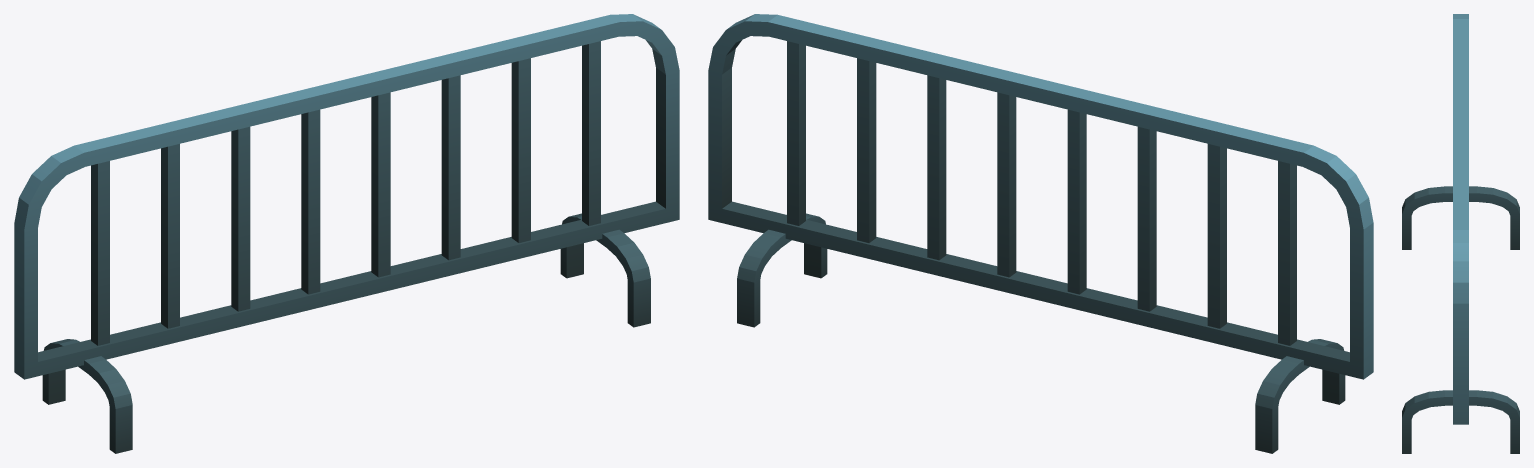
Rendered from lpb_fence_10.fbx.
3 renders of one model, left to right at view 1: azimuth 30°, elevation 25°; view 2: azimuth 150°, elevation 25°; view 3: azimuth 270°, elevation 25°, orthographic. The views are drawn at different scales.
Visible parts, largest first — view 1: fence10; view 2: fence10; view 3: fence10.
Part boxes in pixels (x1,y1,x2,y2): fence10: (14, 14, 679, 453); fence10: (708, 14, 1373, 453); fence10: (1402, 14, 1519, 453).
Bounding box in the file's own units: 493 × 200 × 95.23.
